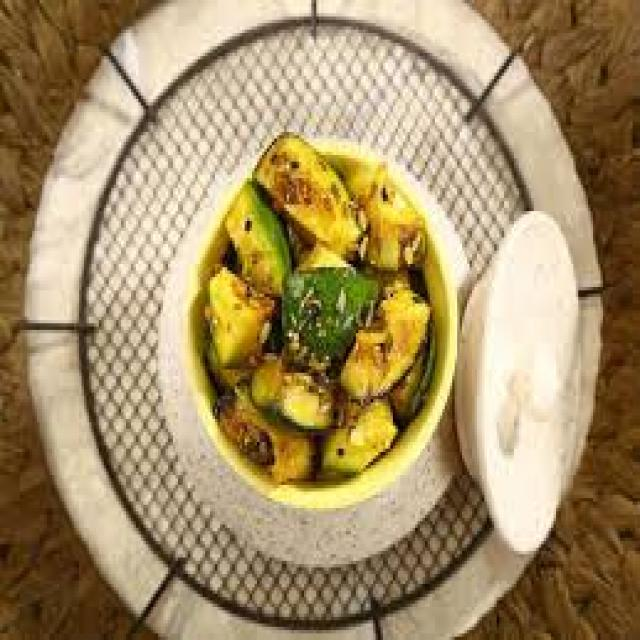organic waste: (185, 125, 452, 508), (250, 125, 363, 251), (277, 241, 368, 356), (336, 274, 423, 389), (218, 383, 312, 475), (346, 158, 425, 264), (220, 174, 284, 294), (200, 261, 269, 366), (314, 399, 400, 478), (247, 346, 331, 426), (388, 323, 435, 419), (203, 330, 252, 386)
